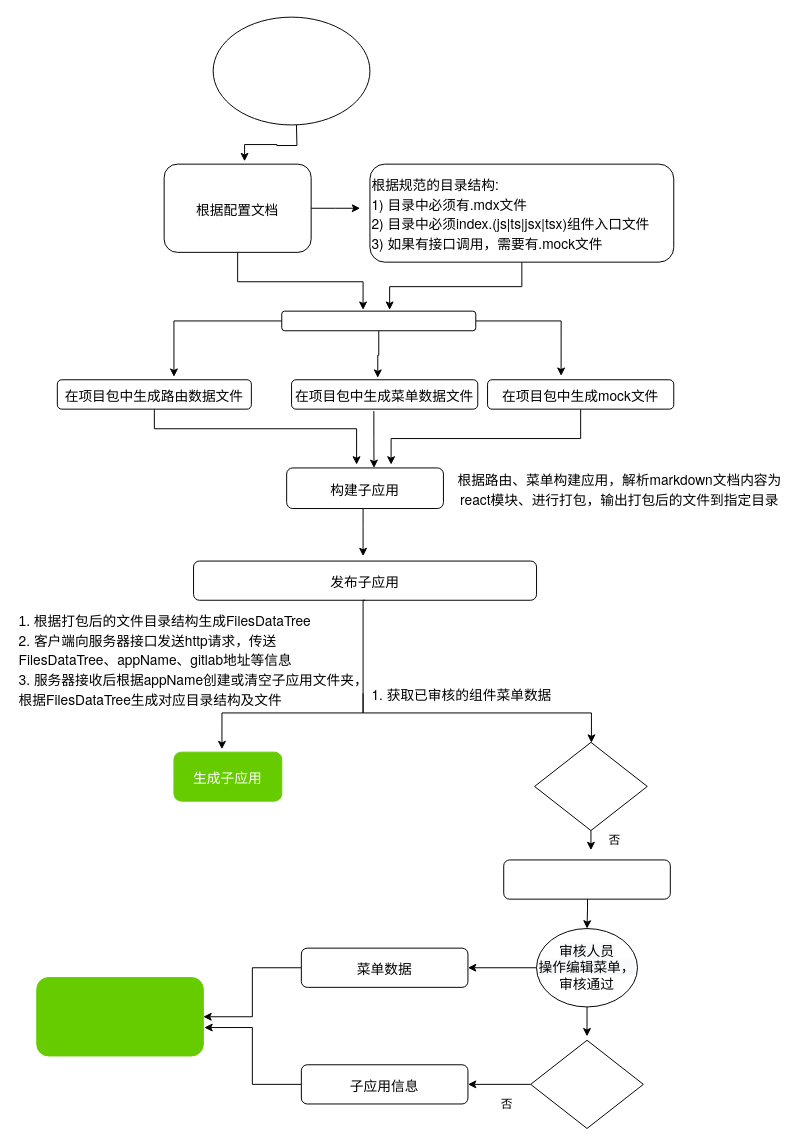
The diagram is 808 pixels wide and 1146 high, and some of its shapes have lost their labels. Here are the shapes that lost their labels. From the top down, the centre of each, then its label:
At (x=291, y=70): "客户端全局安装工具后，在任一项目包中执行 “ 部署 (magic publish)” 命令".
At (x=378, y=320): "生成组件信息树".
At (x=590, y=786): "验证每个菜单 是否已审核通过".
At (x=586, y=879): "未审核的菜单提交审核".
At (x=119, y=1016): "集成到主系统中".
At (x=586, y=1083): "验证当前子应用是否已注册为子应用".
